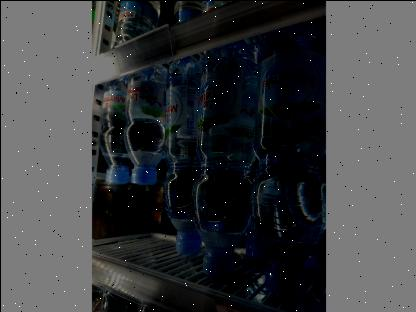Plastic Bottle: (252, 16, 340, 300), (192, 28, 262, 280), (162, 32, 208, 256), (124, 58, 166, 186), (94, 66, 130, 186)
